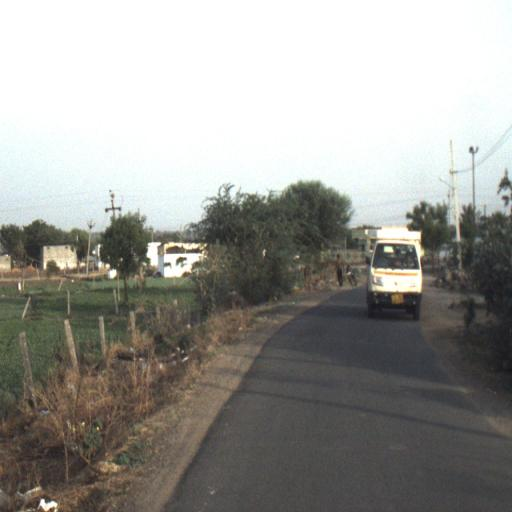street_light_0: (438, 175, 457, 197)
